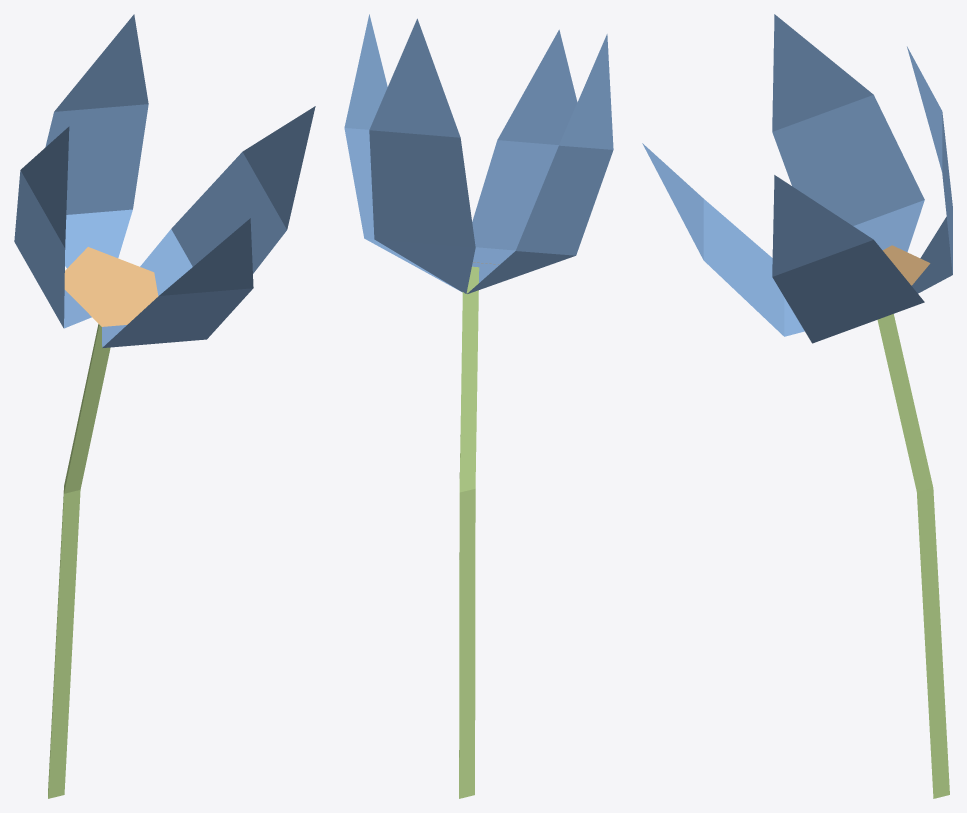
The model's file is Flower_a_TwoS_01.fbx.
3 renders of one model, left to right at view 1: azimuth 30°, elevation 25°; view 2: azimuth 150°, elevation 25°; view 3: azimuth 270°, elevation 25°, orthographic. The views are drawn at different scales.
Visible parts, largest first — view 1: Flower_a_TwoS_01; view 2: Flower_a_TwoS_01; view 3: Flower_a_TwoS_01.
Boxes of the visible parts, <box> form: Flower_a_TwoS_01: <box>14,14,315,798</box>; Flower_a_TwoS_01: <box>344,14,613,798</box>; Flower_a_TwoS_01: <box>642,14,952,798</box>.
Bounding box in the file's own units: 0.2642 × 0.7788 × 0.281.
